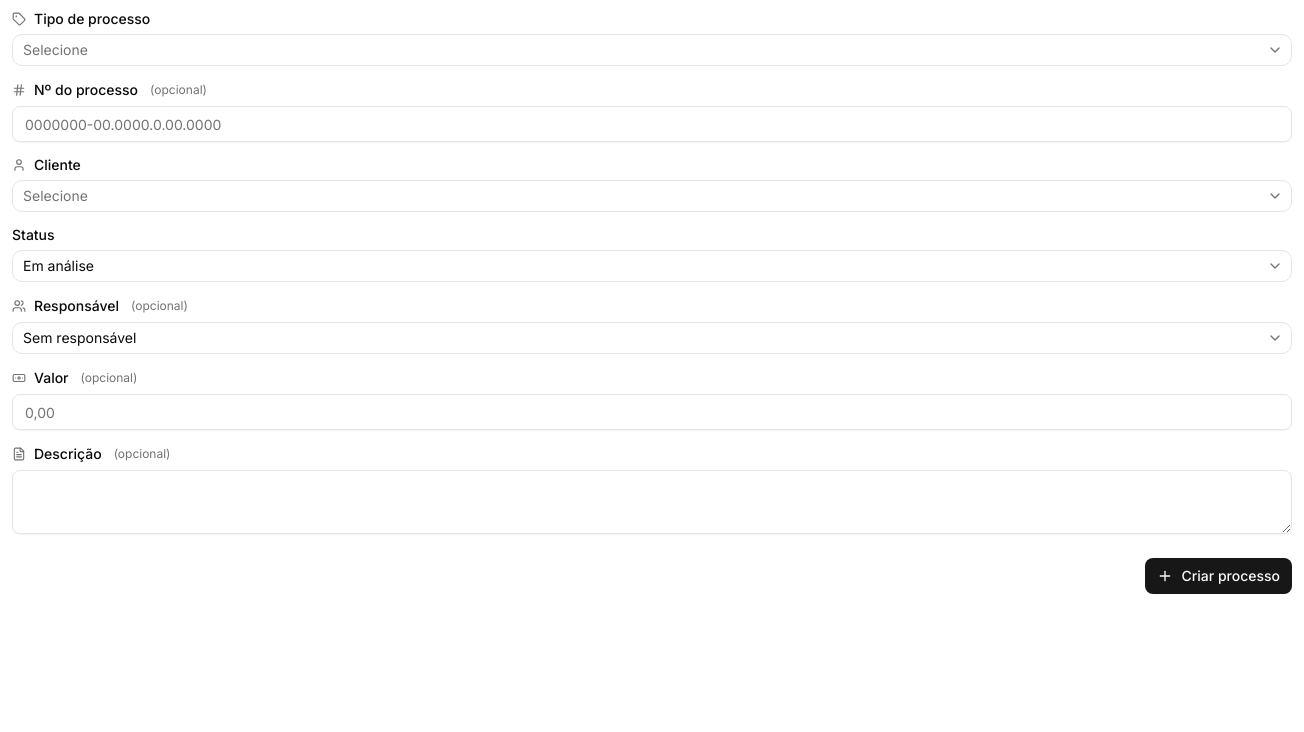
Test: CasoForm › mostra erro quando o tipo de processo não foi selecionado
Expected: the text "Em análise" is shown, [23, 257, 94, 274]
Step 1. Click the button "Criar processo" → (1219, 576), box [1146, 558, 1292, 594]
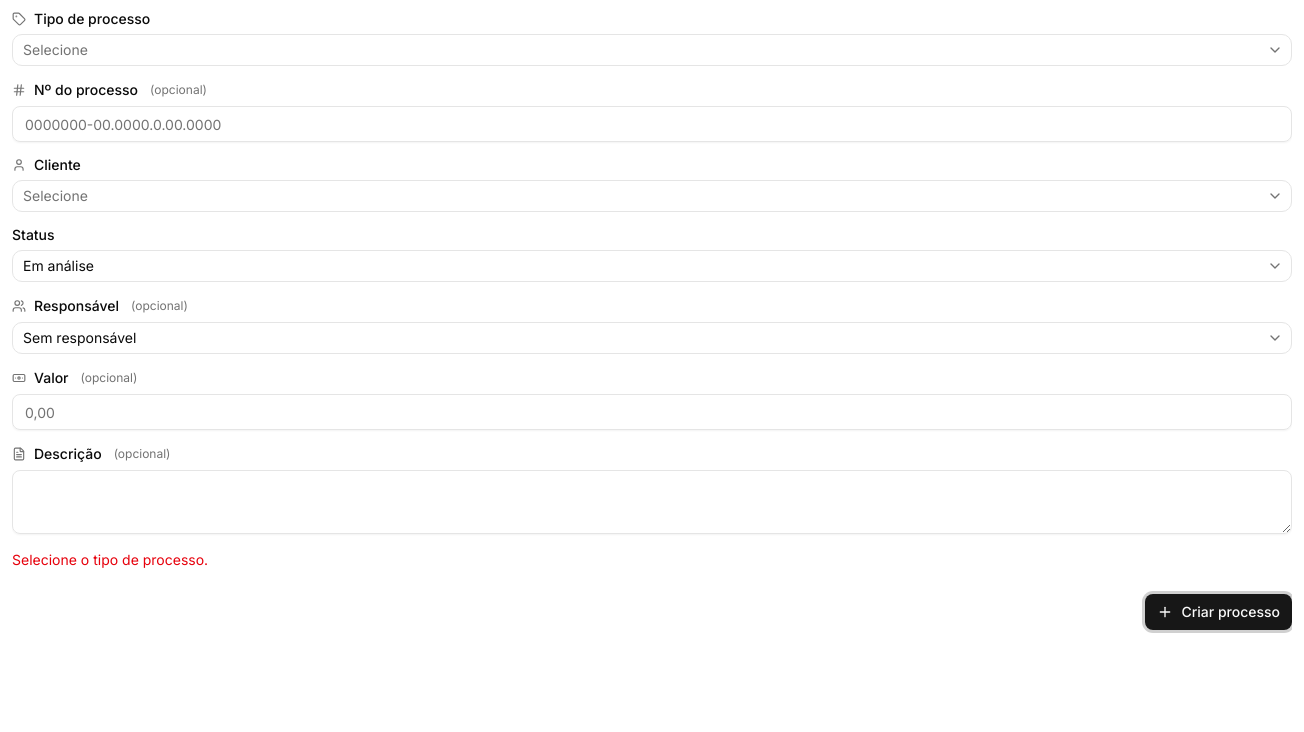
Expected: the message reads "Selecione o tipo de processo.", [12, 551, 208, 568]
